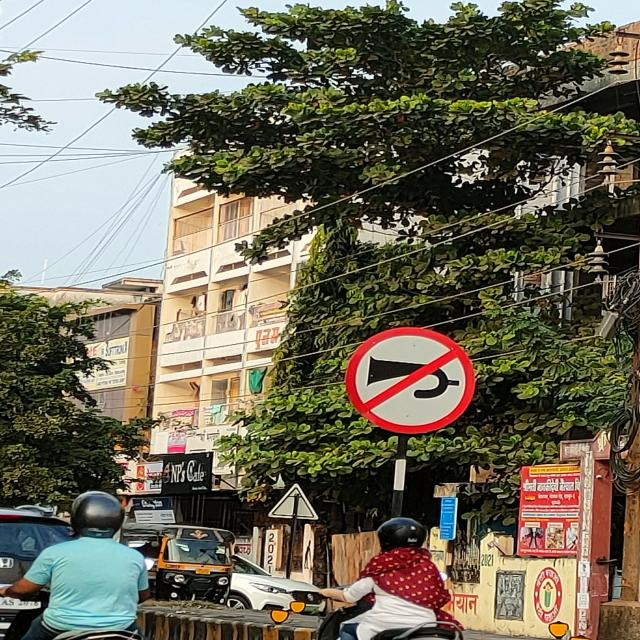HORN_PROHIBITED: (345, 327, 474, 433)
